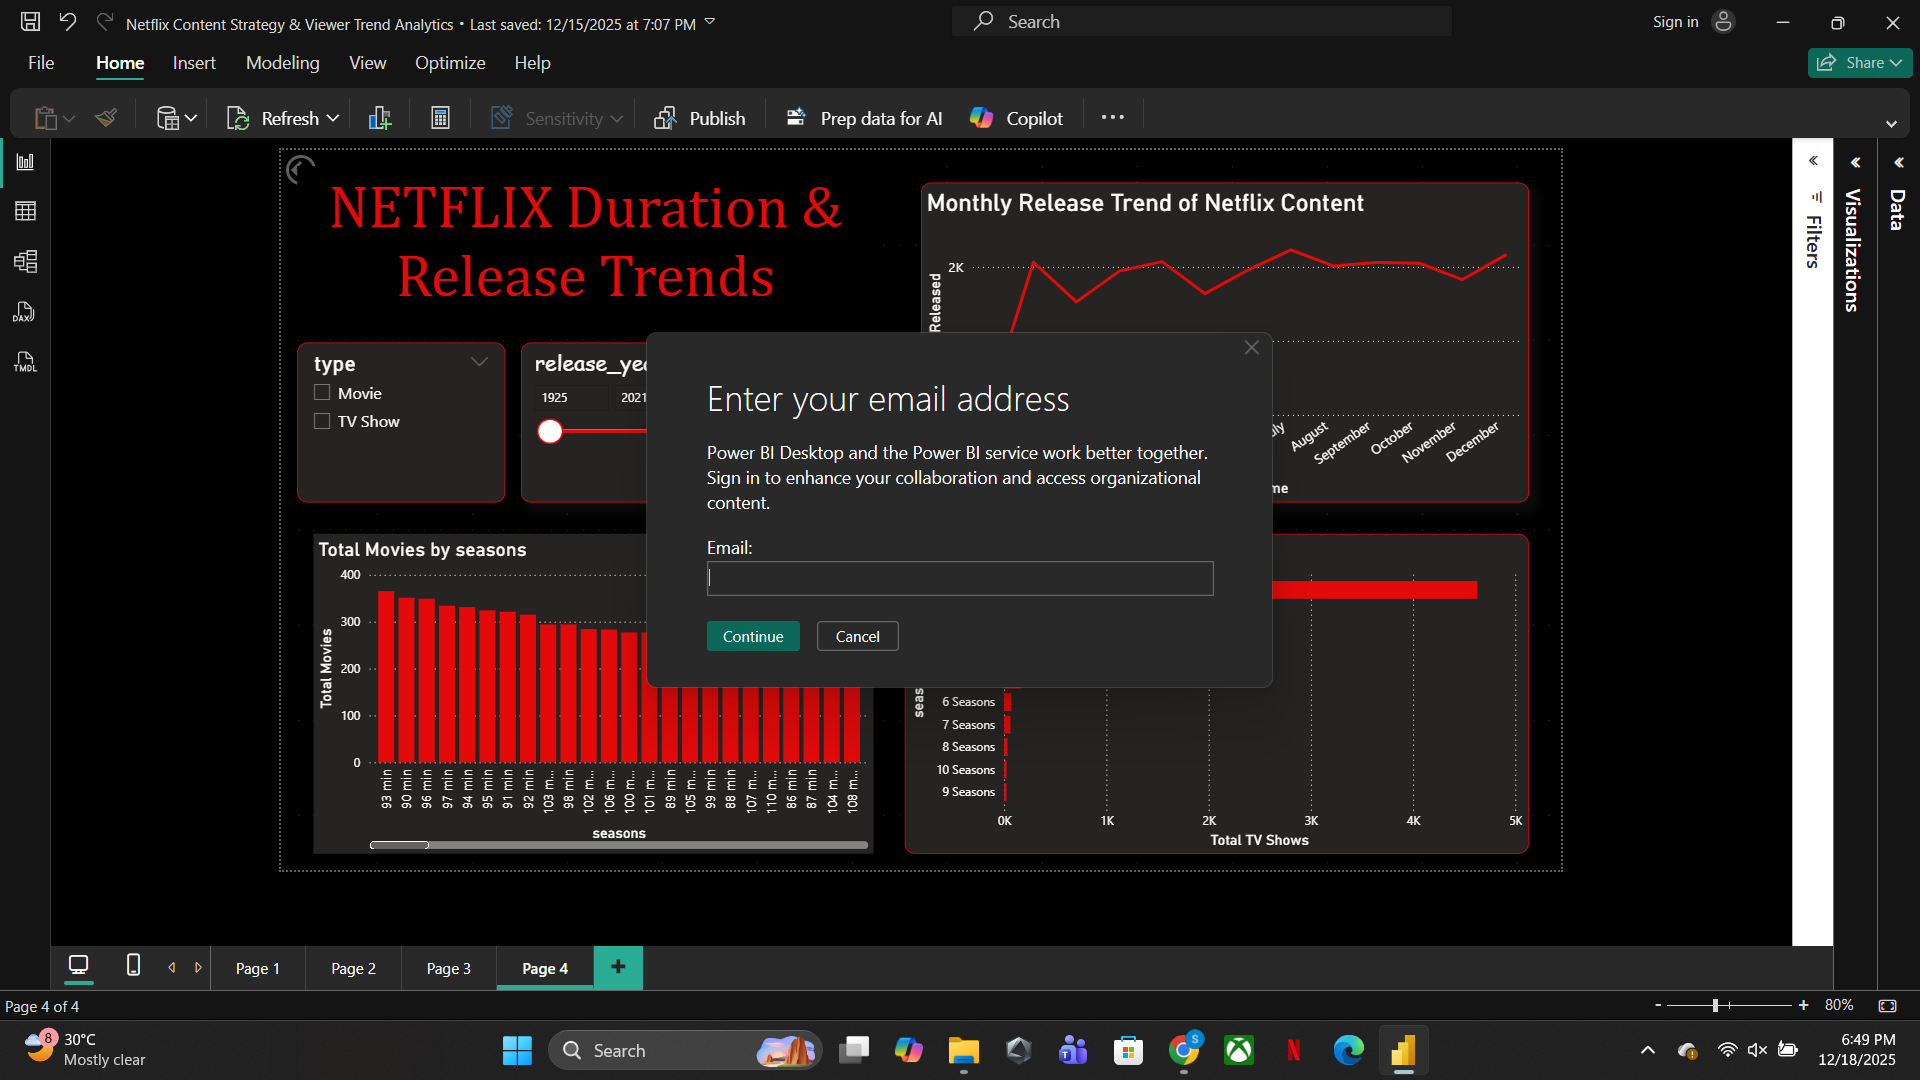

The dashboard page shown, as its layout file describes it:
{"tool":"powerbi","page":{"name":"Page 4","canvas":[1280,720],"ordinal":3},"visuals":[{"type":"clusteredBarChart","fields":{"Category":["cleaned_netflix_data.seasons"],"Y":["cleaned_netflix_data.Total TV Shows"]},"box":[624,384,624,320],"z":0},{"type":"clusteredColumnChart","fields":{"Category":["cleaned_netflix_data.seasons"],"Y":["cleaned_netflix_data.Total Movies"]},"box":[32,384,560,320],"z":1000},{"type":"actionButton","box":[0,0,100,40],"z":2000},{"type":"lineChart","title":"Monthly Release Trend of Netflix Content","fields":{"Category":["cleaned_netflix_data.Month Name"],"Y":["cleaned_netflix_data.Titles Released"]},"box":[640,32,608,320],"z":3000},{"type":"slicer","fields":{"Values":["cleaned_netflix_data.type"]},"box":[16,192,208,160],"z":4000},{"type":"slicer","fields":{"Values":["cleaned_netflix_data.release_year"]},"box":[240,192,352,160],"z":4001},{"type":"textbox","box":[16,16,576,160],"z":4002}]}

Visuals, with their boxes on the page's 1280x720 design canvas (x1, y1, x2, y2). These are canvas units, not pixel positions in the 1920x1080 screenshot, which may show the page scaled, cropped or inside an application window:
clusteredBarChart - cleaned_netflix_data.seasons x cleaned_netflix_data.Total TV Shows: 624, 384, 1248, 704
clusteredColumnChart - cleaned_netflix_data.seasons x cleaned_netflix_data.Total Movies: 32, 384, 592, 704
actionButton: 0, 0, 100, 40
"Monthly Release Trend of Netflix Content" lineChart: 640, 32, 1248, 352
slicer - cleaned_netflix_data.type: 16, 192, 224, 352
slicer - cleaned_netflix_data.release_year: 240, 192, 592, 352
textbox: 16, 16, 592, 176
